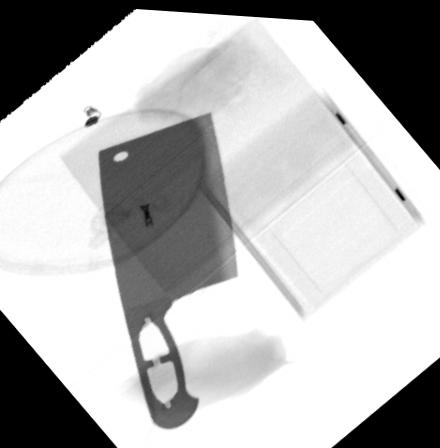Knife: (98, 105, 241, 428)
